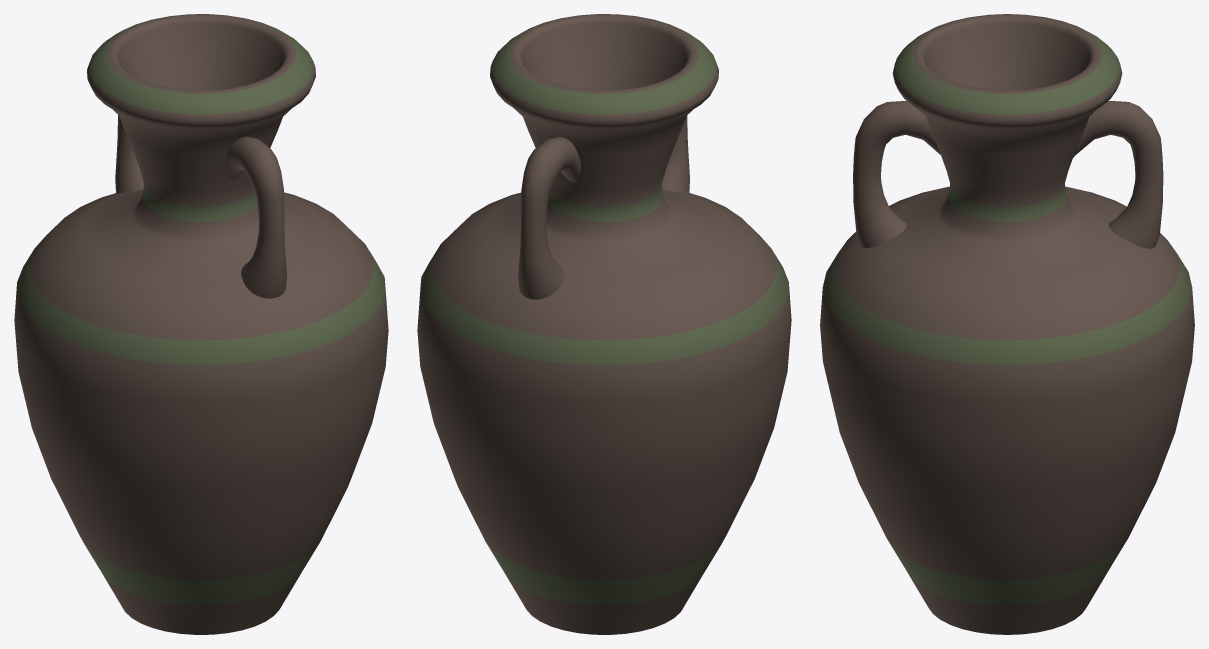
File: pot02.fbx
3 renders of one model, left to right at view 1: azimuth 30°, elevation 25°; view 2: azimuth 150°, elevation 25°; view 3: azimuth 270°, elevation 25°, orthographic.
Parts seen in each view (by area): view 1: pot02; view 2: pot02; view 3: pot02.
Boxes of the visible parts, x1,y1,x2,y2 form: pot02: (14, 14, 388, 634); pot02: (417, 14, 791, 634); pot02: (820, 14, 1194, 634).
Bounding box in the file's own units: 0.4607 × 0.7425 × 0.4607.
